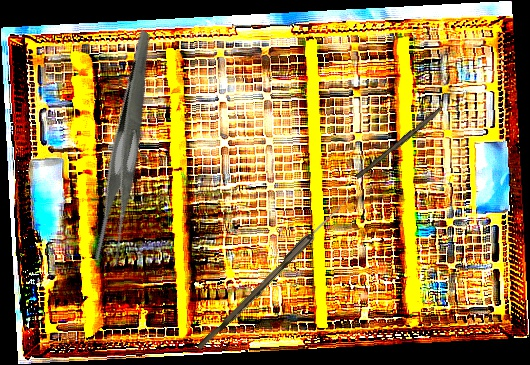Dressing Forceps: (35, 29, 221, 270)
Scalpel Handle: (355, 106, 443, 182)
Surgical Spoon: (196, 192, 353, 354)
